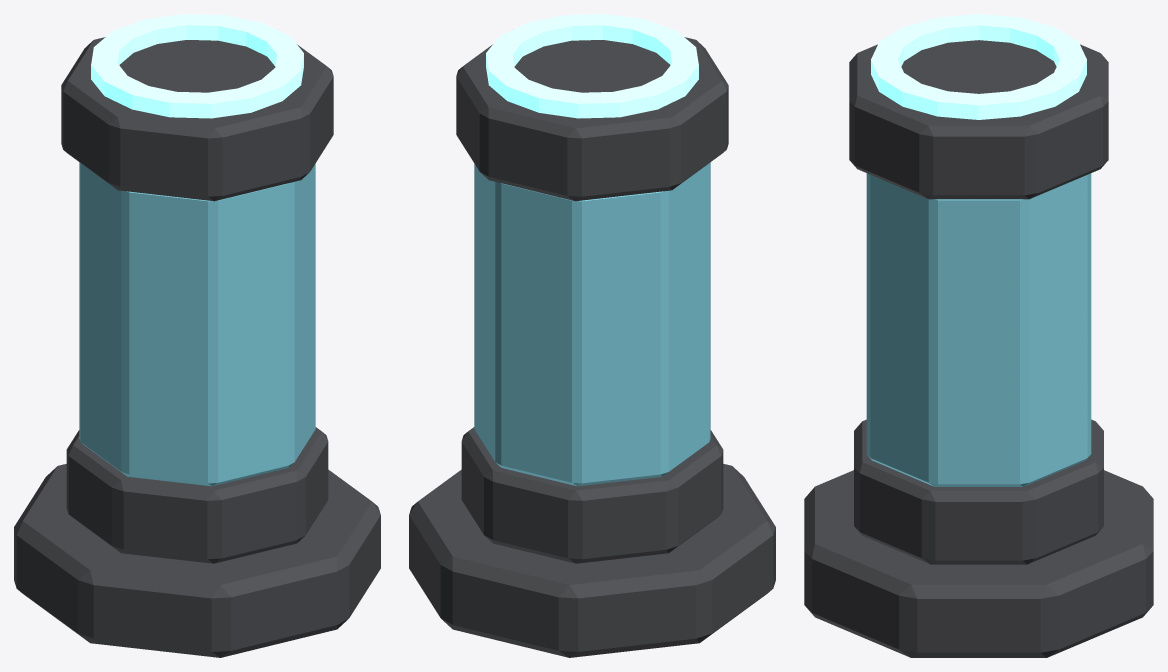
Rendered from heatsinkShieldPickup.e3b41a15.glb.
The picture shows the model from 3 angles, left to right: view 1: azimuth 30°, elevation 25°; view 2: azimuth 150°, elevation 25°; view 3: azimuth 270°, elevation 25°; orthographic projection.
Visible parts, largest first — view 1: shield_pickup; view 2: shield_pickup; view 3: shield_pickup.
Boxes of the visible parts, <box> form: shield_pickup: <box>14,14,380,657</box>; shield_pickup: <box>409,14,775,657</box>; shield_pickup: <box>804,14,1153,657</box>.
Size of the model in its own units: 1.29 by 2.16 by 1.29.
